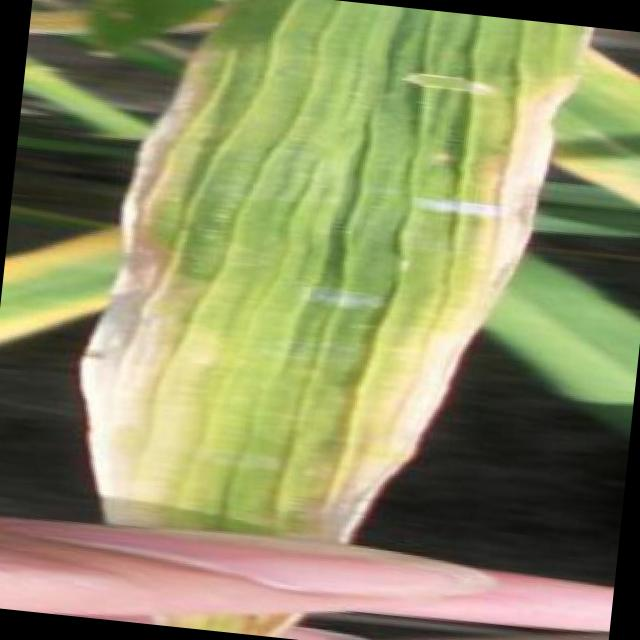Rice_Bacterial_Blight: (80, 28, 518, 562)
